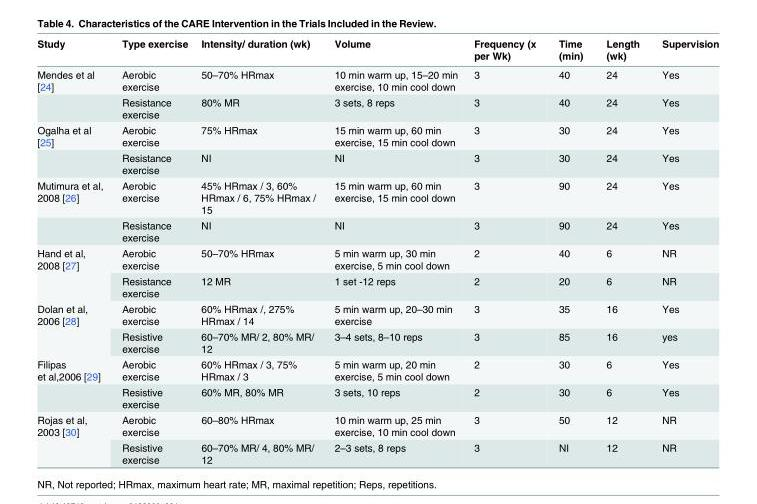table: (36, 37, 718, 465)
table column: (324, 37, 465, 465), (193, 37, 324, 465), (111, 37, 193, 465), (465, 37, 546, 465), (36, 37, 111, 465), (650, 37, 718, 465), (593, 37, 650, 465), (546, 37, 593, 465)
table column header: (36, 37, 718, 64)
table row: (36, 177, 718, 217), (36, 64, 718, 94), (36, 121, 718, 149), (36, 149, 718, 177), (36, 244, 718, 272), (36, 272, 718, 300), (36, 300, 718, 328), (36, 355, 718, 383), (36, 383, 718, 411), (36, 411, 718, 439), (36, 37, 718, 64), (36, 94, 718, 121), (36, 217, 718, 244), (36, 328, 718, 355), (36, 439, 718, 465)
table spanning cell: (36, 177, 111, 244), (36, 64, 111, 121), (36, 121, 111, 177), (36, 244, 111, 300), (36, 355, 111, 411), (36, 300, 111, 355), (36, 411, 111, 465)
